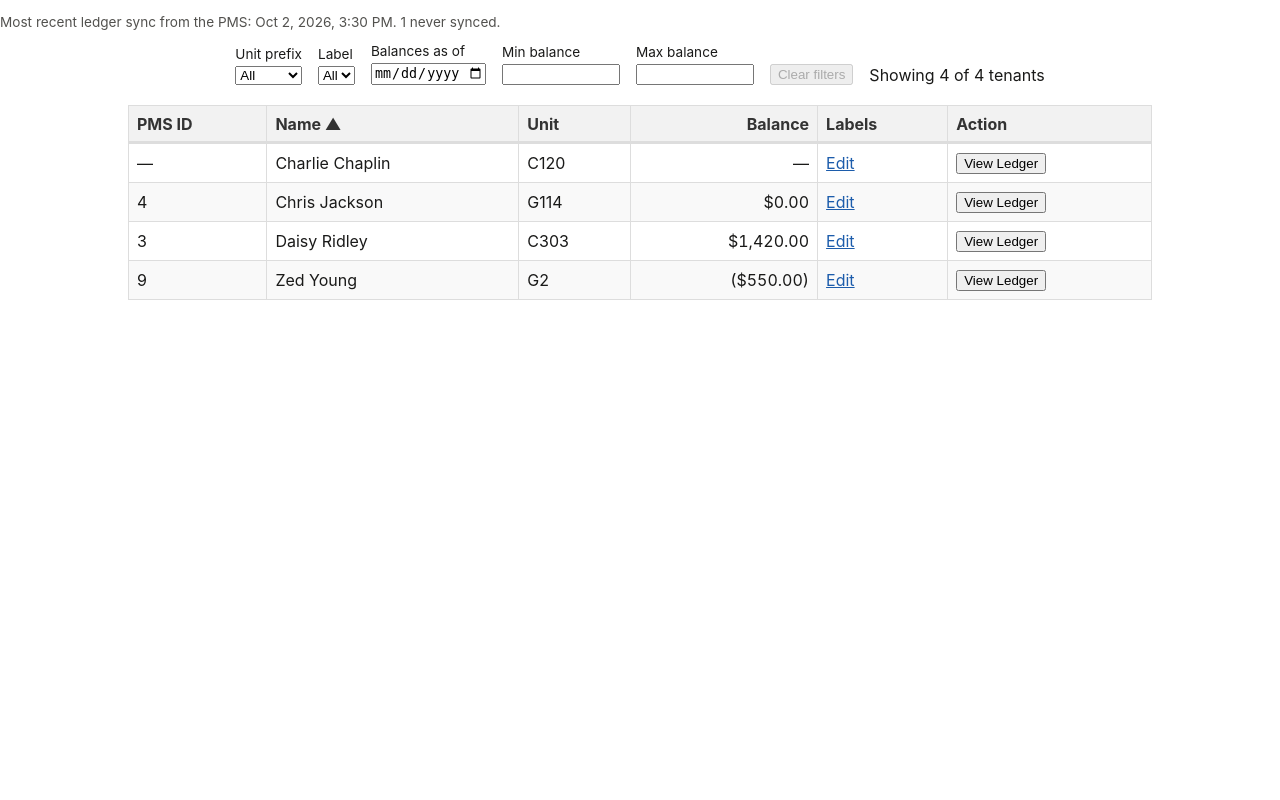
a tenant with no transactions gets an empty state, not an empty table
Click the button with aria-label "View ledger for Chris Jackson" at (1001, 202), box [956, 192, 1046, 212]
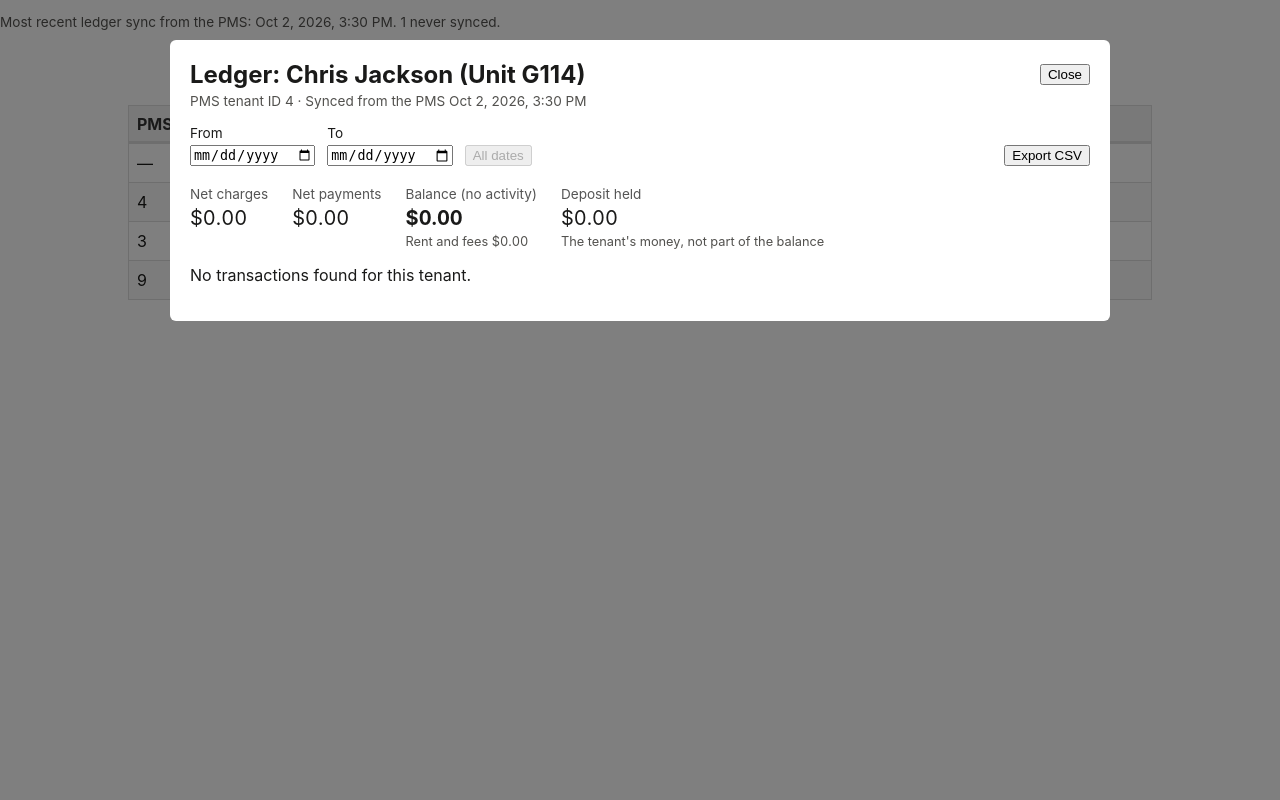
Check: the text "No transactions found for this tenant." is shown, box [190, 265, 471, 285]
Check: the text "Balance (no activity)" is shown, box [406, 186, 537, 202]
